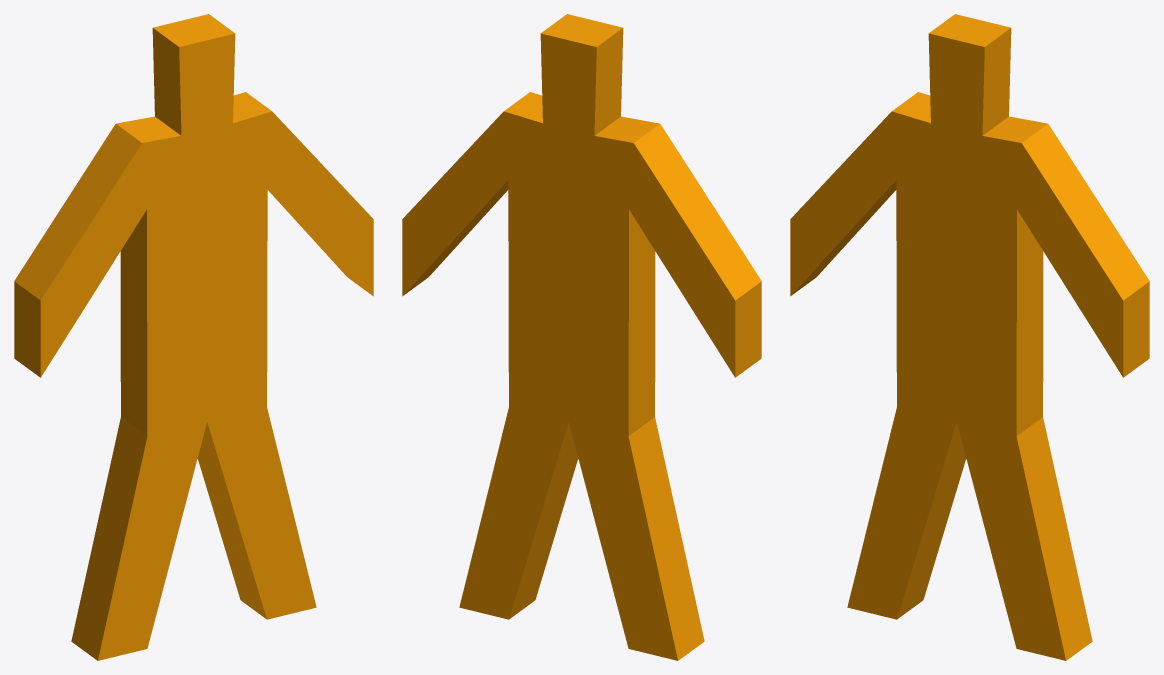
The model's file is character.FBX.
3 views of the same model, side by side, from view 1: azimuth 30°, elevation 25°; view 2: azimuth 150°, elevation 25°; view 3: azimuth 330°, elevation 25° (orthographic).
Parts seen in each view (by area): view 1: Line02; view 2: Line02; view 3: Line02.
Part boxes in pixels (<box>): Line02: <box>14,14,373,660</box>; Line02: <box>402,14,761,660</box>; Line02: <box>790,14,1149,660</box>.
Bounding box in the file's own units: 2.57 × 0.3542 × 4.37.
